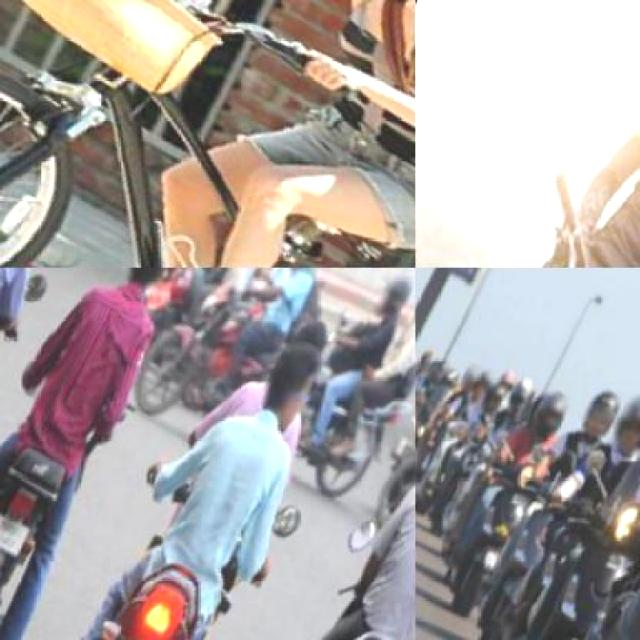With Helmet: (576, 374, 627, 438), (530, 379, 576, 436), (606, 377, 639, 455), (371, 268, 414, 317), (480, 371, 514, 415), (469, 358, 502, 400), (458, 356, 485, 392)
Without Helmet: (256, 322, 333, 418), (120, 268, 189, 294)
